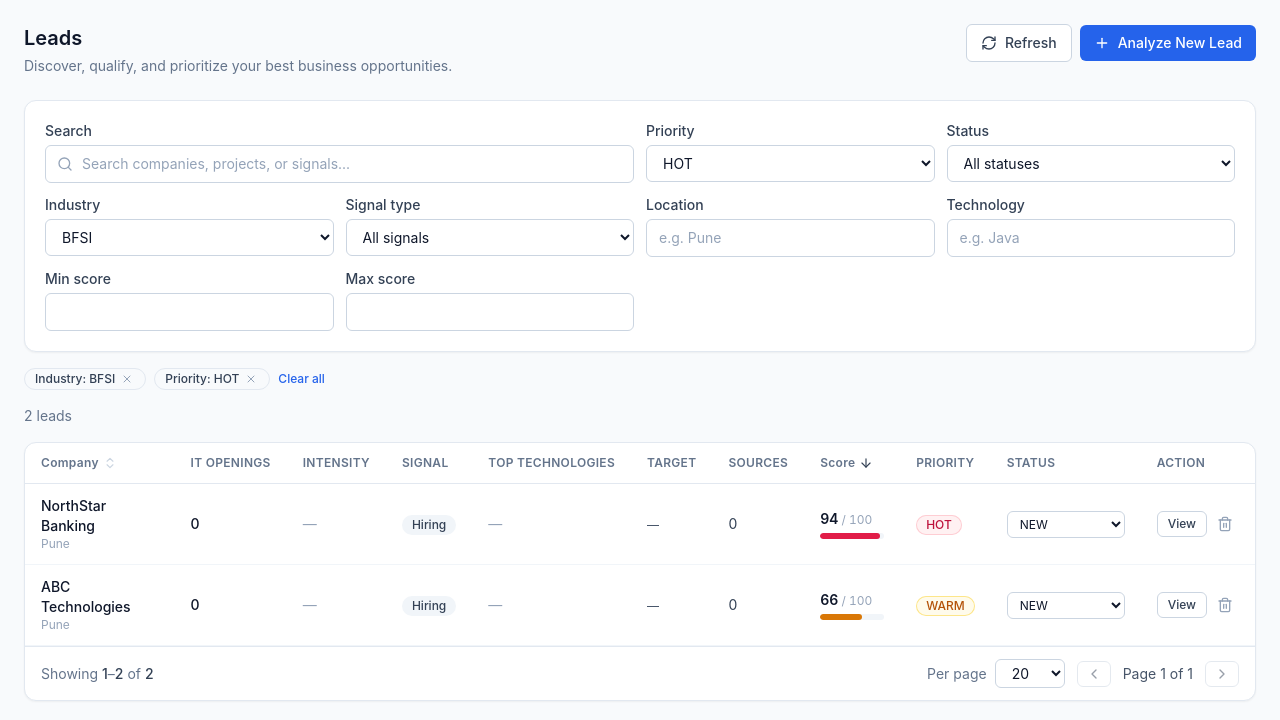
LeadsPage › renders active filter chips and removes one
This screenshot has width=1280, height=720.
expect the text "NorthStar Banking" is shown: met, box [41,497,106,534]
expect the text "Priority: HOT" is shown: met, box [154,368,270,390]
Click the button named "remove filter priority: hot".
click(251, 379)  # box [243,371,259,387]
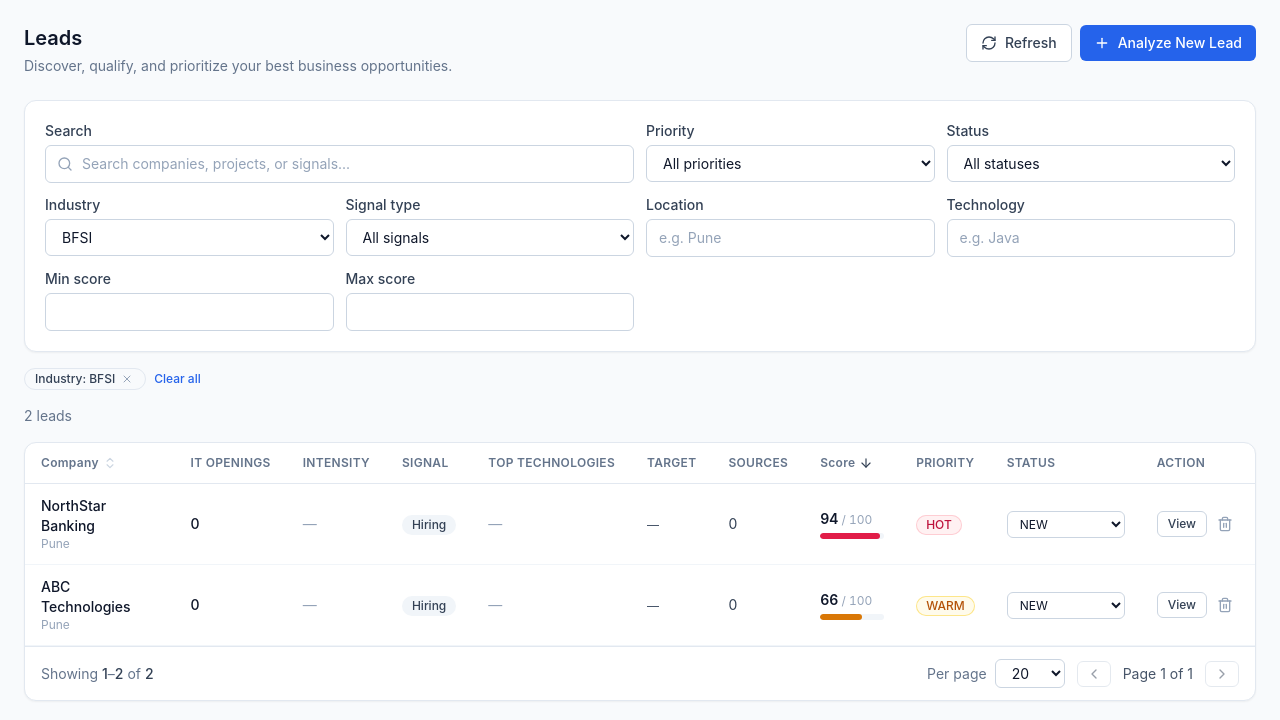
expect the text "Industry: BFSI" is shown: met, box [24,368,146,390]
expect the text "Priority: HOT" is gone: met
